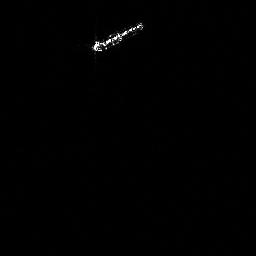ship: (91, 23, 146, 52)
